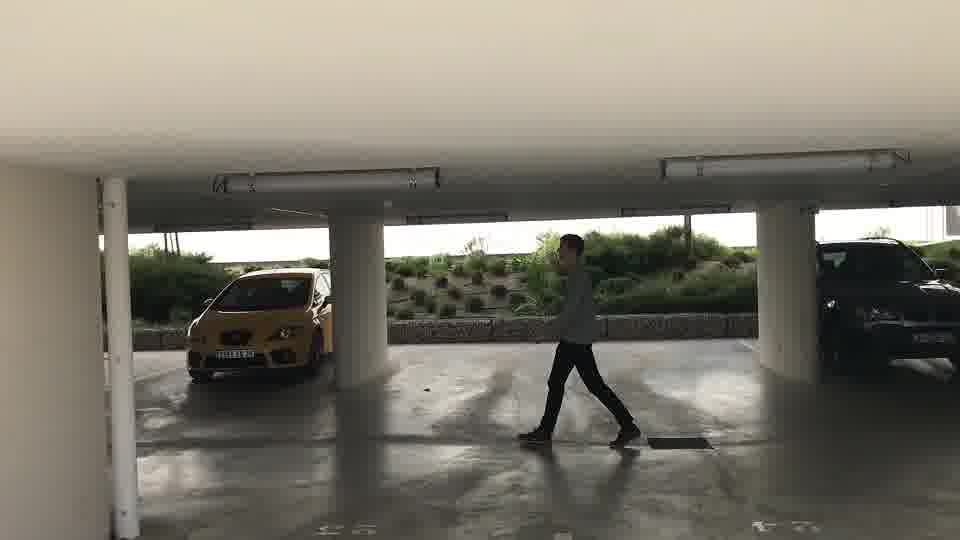jugador: (509, 231, 643, 458)
